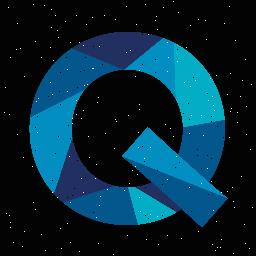q: (22, 26, 234, 232)
